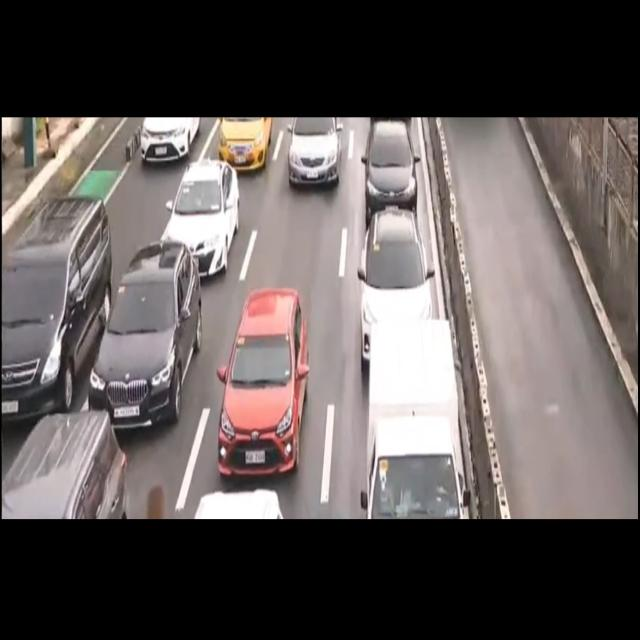Pick-up: (360, 323, 469, 520)
SUV: (0, 191, 113, 417), (352, 209, 437, 357)
Sedan: (91, 243, 199, 430), (216, 288, 309, 476), (159, 160, 241, 277), (361, 125, 416, 222), (288, 119, 342, 190), (218, 114, 274, 176)
